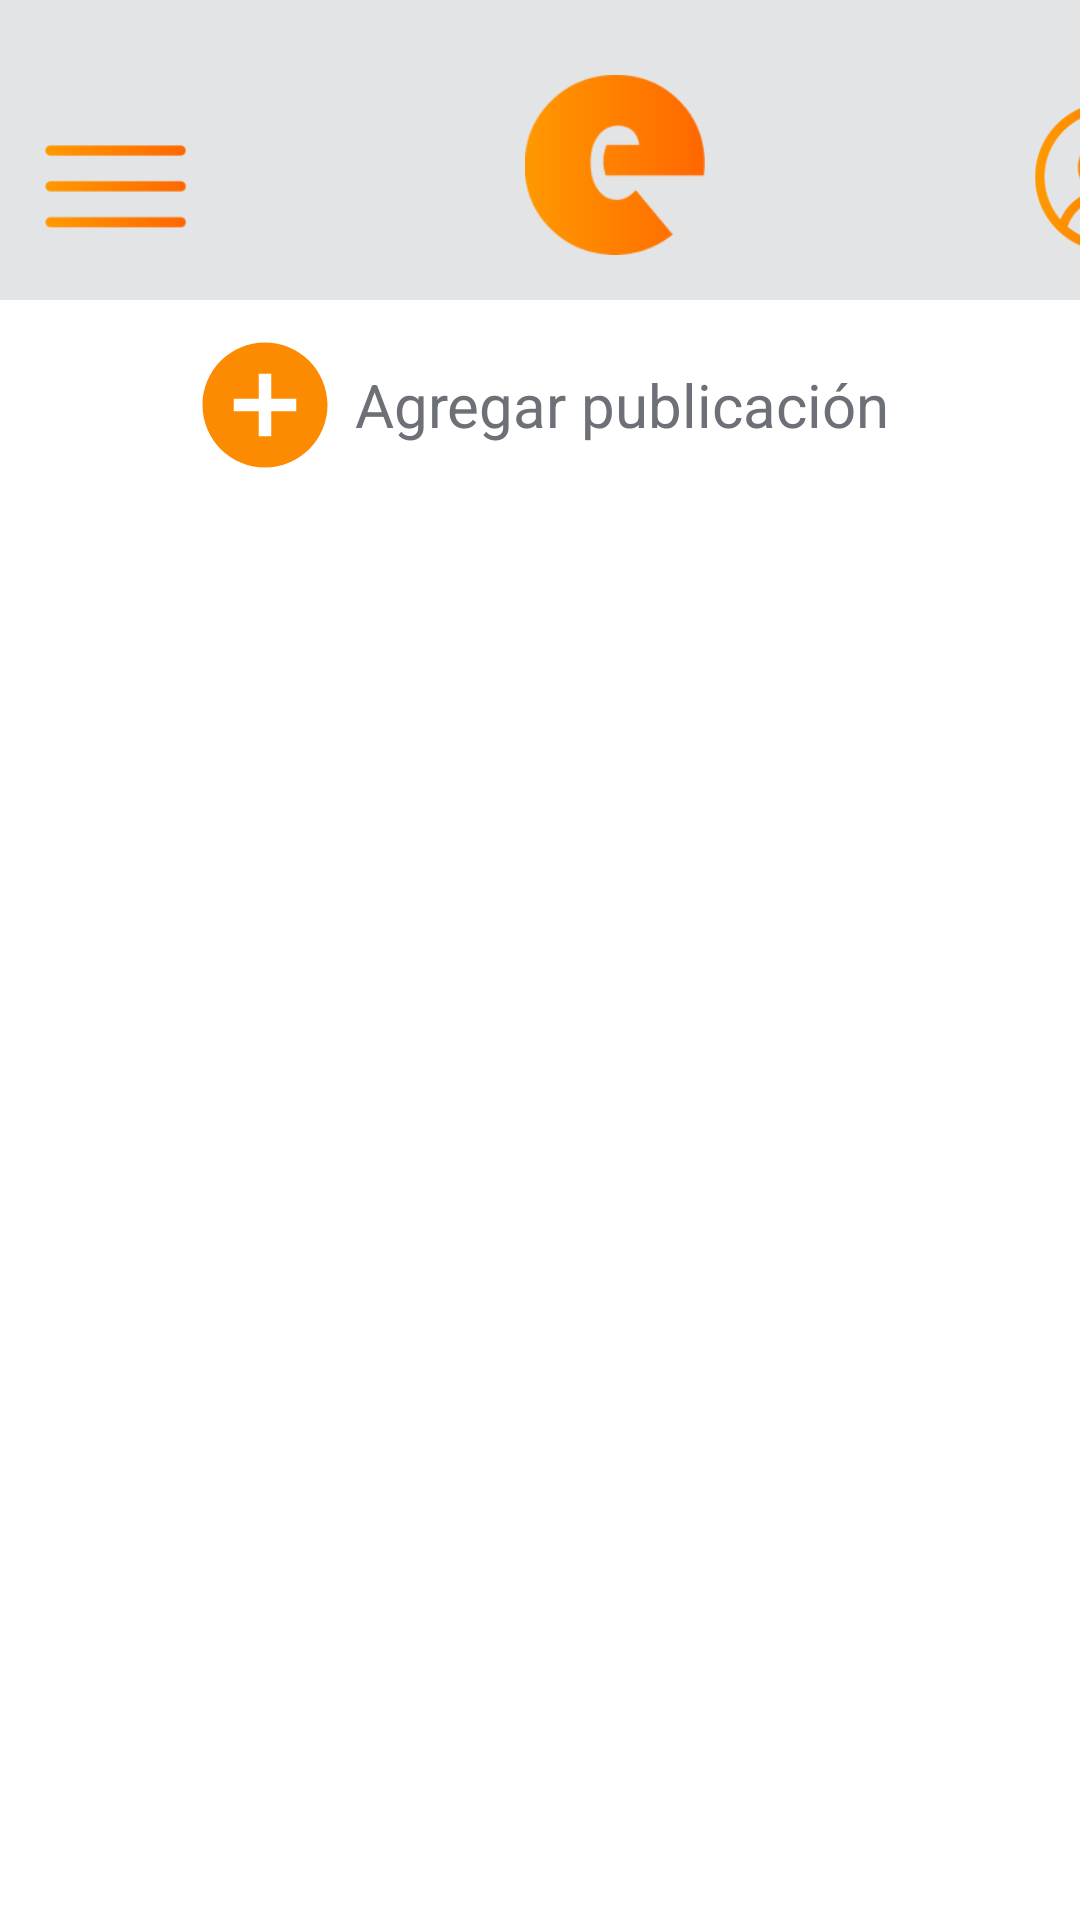

Where icons sit on this 1080px×1920px app screen, as BBox(x1, y1, x2, y2):
add: BBox(202, 342, 328, 468)
tresbarras: BBox(45, 145, 186, 228)
